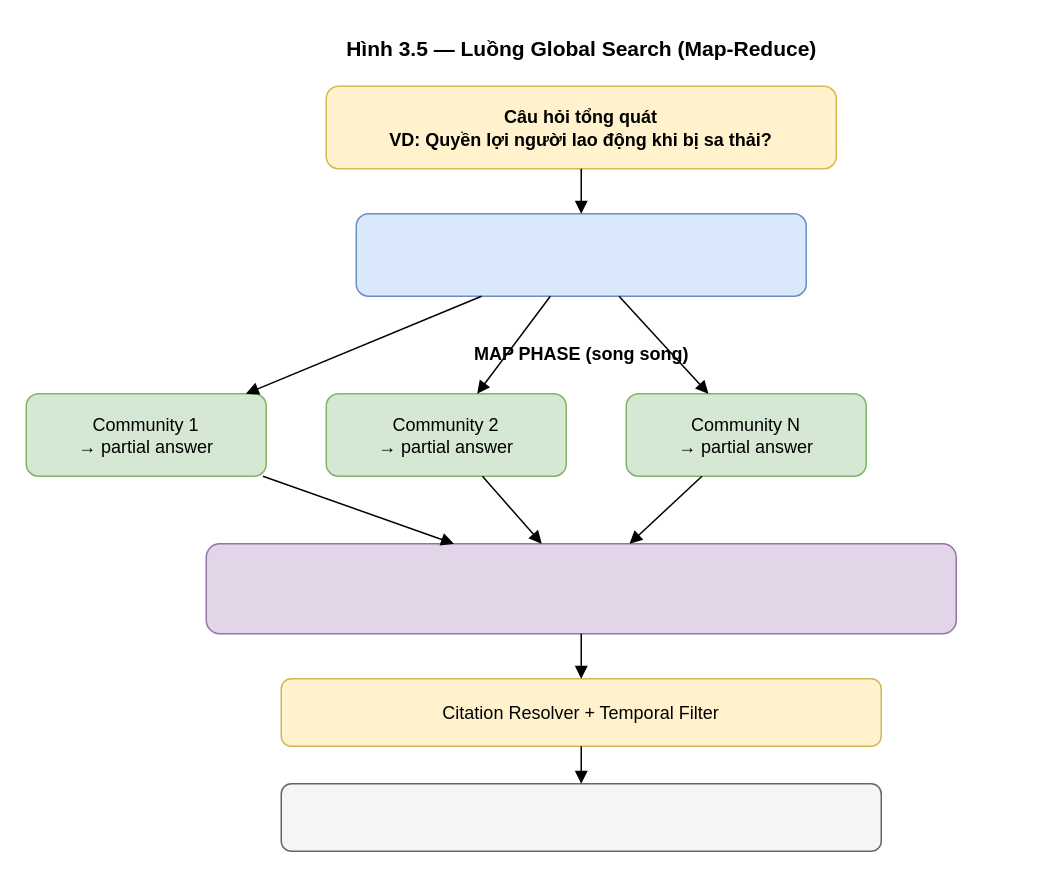
Image size: 1058x878. Some labels were removed from this diagram. The shapes that lost their labels are listed below. From the top down, each one's box as (x1, y1, x2, y2) in pixels, then its label:
(355, 212, 806, 296): Chọn Community Reports (embedding similarity top-k)
(205, 542, 956, 634): REDUCE PHASE LLM tổng hợp partial answers → câu trả lời thống nhất
(280, 782, 881, 851): Response tổng hợp đa Điều, đa văn bản
